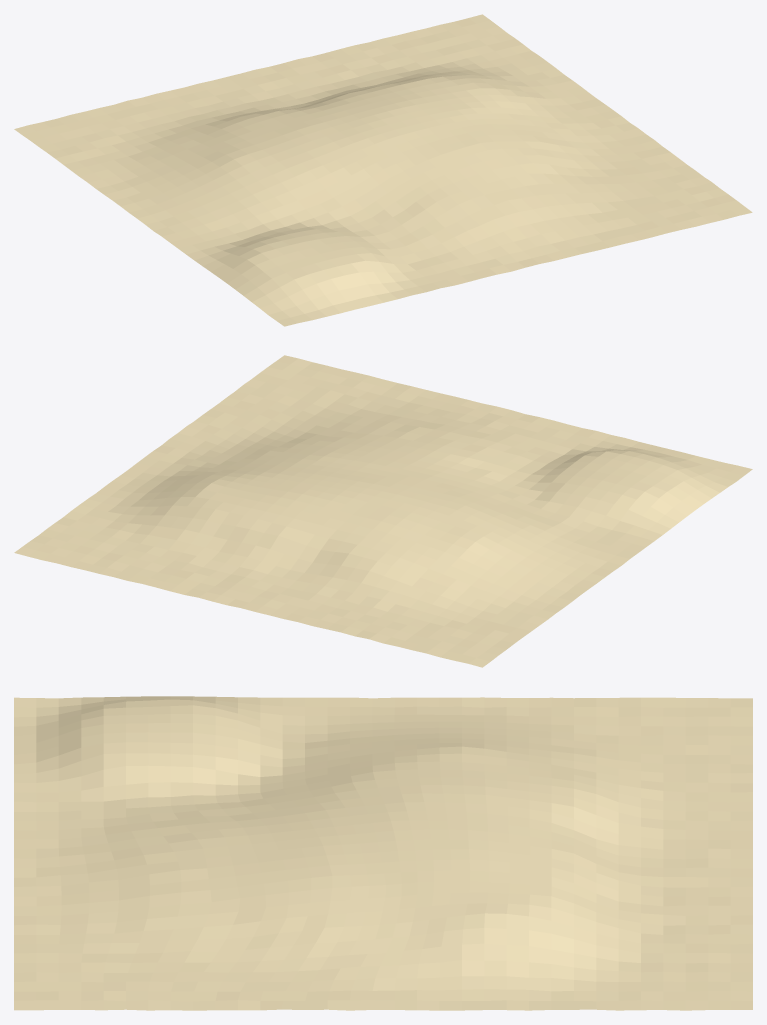
File: Iletest.fbx
The picture shows the model from 3 angles, top to bottom: view 1: azimuth 30°, elevation 25°; view 2: azimuth 150°, elevation 25°; view 3: azimuth 270°, elevation 25°; orthographic projection. The views are drawn at different scales.
Parts seen in each view (by area): view 1: Plane.001; view 2: Plane.001; view 3: Plane.001.
Part boxes in pixels (x1,y1,x2,y2): Plane.001: (14,14,752,326); Plane.001: (14,355,752,667); Plane.001: (14,696,752,1010).
Size of the model in its own units: 2604 by 152 by 2604.
